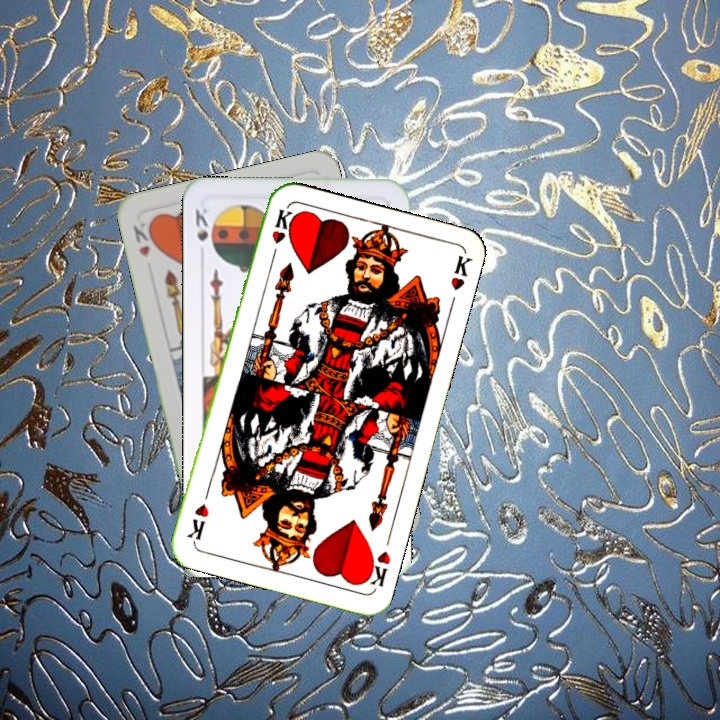HK: (267, 205, 295, 263), (359, 547, 393, 590), (129, 218, 159, 260)
SK: (191, 204, 210, 244)
